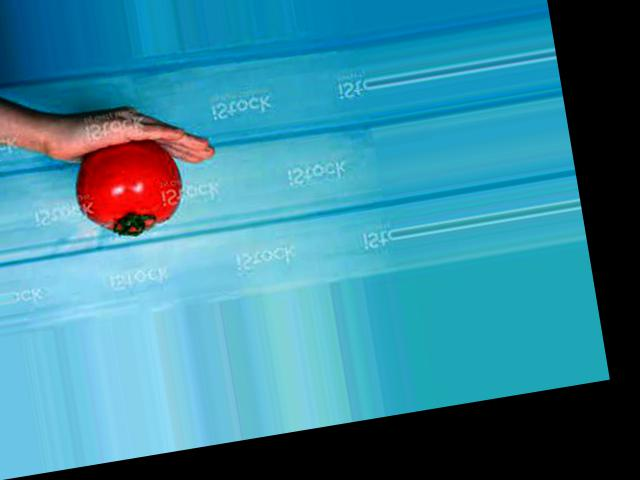tomato: (71, 133, 189, 242)
